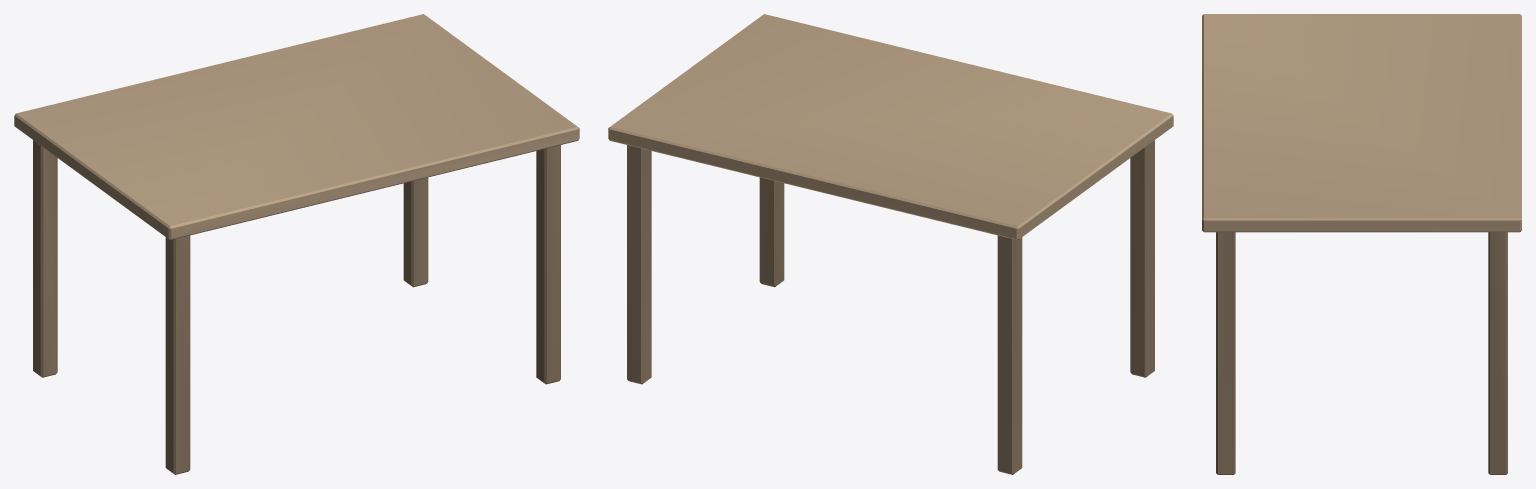
File: table_1021bd.glb
3 views of the same model, side by side, from view 1: azimuth 30°, elevation 25°; view 2: azimuth 150°, elevation 25°; view 3: azimuth 270°, elevation 25° (orthographic). The views are drawn at different scales.
Visible parts, largest first — view 1: Table_Top, Table_Leg_1, Table_Leg_3, Table_Leg_2, Table_Leg_4; view 2: Table_Top, Table_Leg_2, Table_Leg_4, Table_Leg_1, Table_Leg_3; view 3: Table_Top, Table_Leg_3, Table_Leg_4.
Boxes of the visible parts, x1,y1,x2,y2 form: Table_Top: (14, 14, 579, 240); Table_Leg_1: (165, 235, 190, 474); Table_Leg_3: (536, 145, 560, 384); Table_Leg_2: (33, 140, 57, 377); Table_Leg_4: (403, 177, 428, 287); Table_Top: (608, 14, 1173, 240); Table_Leg_2: (997, 235, 1022, 474); Table_Leg_4: (627, 145, 651, 384); Table_Leg_1: (1130, 140, 1154, 377); Table_Leg_3: (759, 177, 784, 287); Table_Top: (1202, 14, 1521, 232); Table_Leg_3: (1216, 232, 1235, 474); Table_Leg_4: (1488, 232, 1507, 474).
Size of what is drawn, in the model's own units: 1.22 by 0.7299 by 0.8048.
